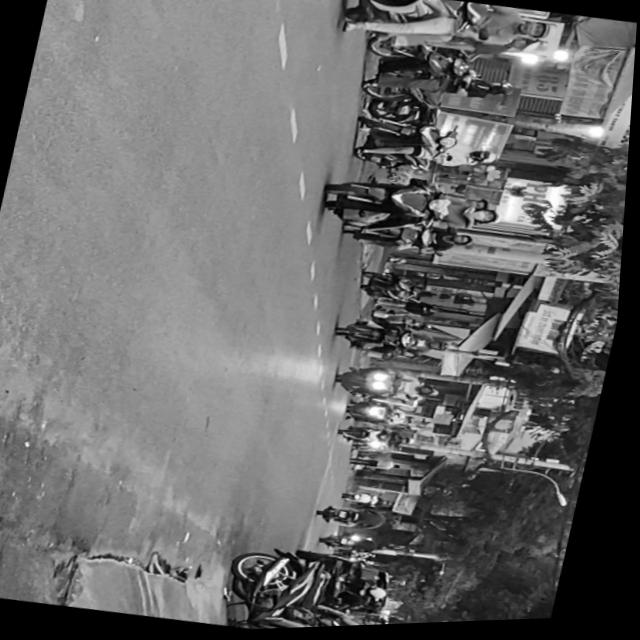helmet: (518, 21, 560, 47), (472, 209, 507, 231), (486, 79, 516, 101), (472, 151, 501, 168), (455, 235, 481, 252)
licenseplate: (349, 30, 525, 130), (318, 168, 514, 251), (329, 0, 565, 68), (348, 113, 508, 189)
